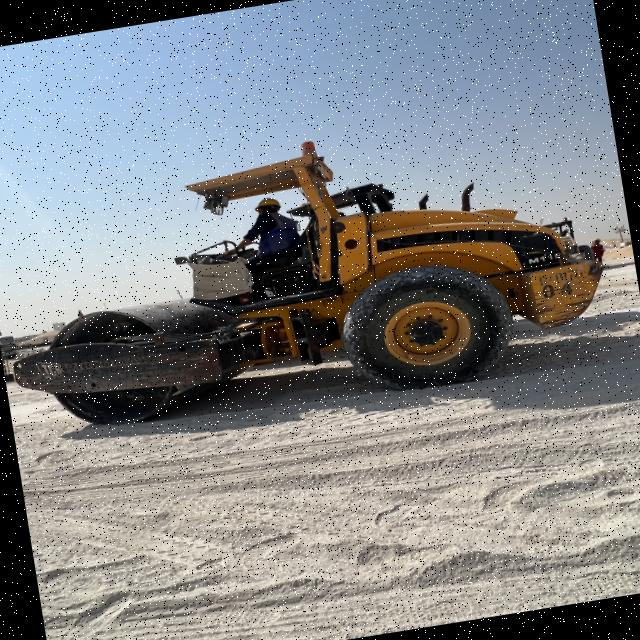Roller: (0, 93, 625, 461)
